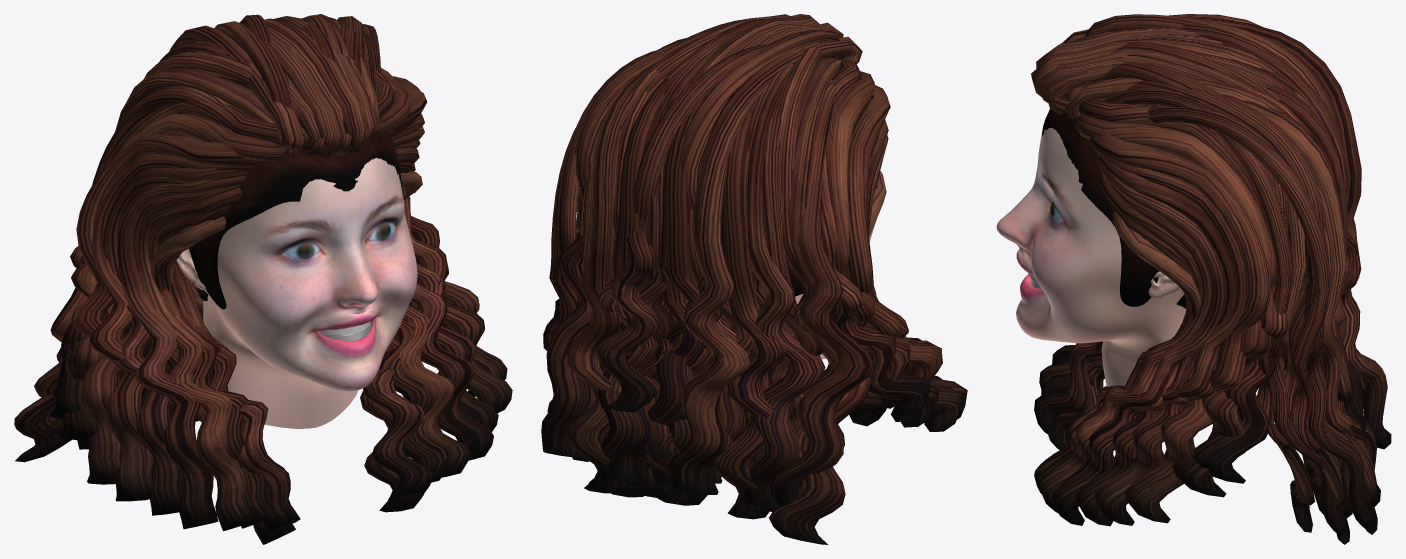
3 views of the same model, side by side, from view 1: azimuth 30°, elevation 25°; view 2: azimuth 150°, elevation 25°; view 3: azimuth 270°, elevation 25° (orthographic). The views are drawn at different scales.
Visible parts, largest first — view 1: ee; view 2: ee; view 3: ee.
Boxes of the visible parts, box(x1,y1,x2,y2) form: ee: box(14, 14, 512, 544); ee: box(541, 14, 967, 544); ee: box(996, 14, 1391, 544).
Bounding box in the file's own units: 365 × 387 × 298.
